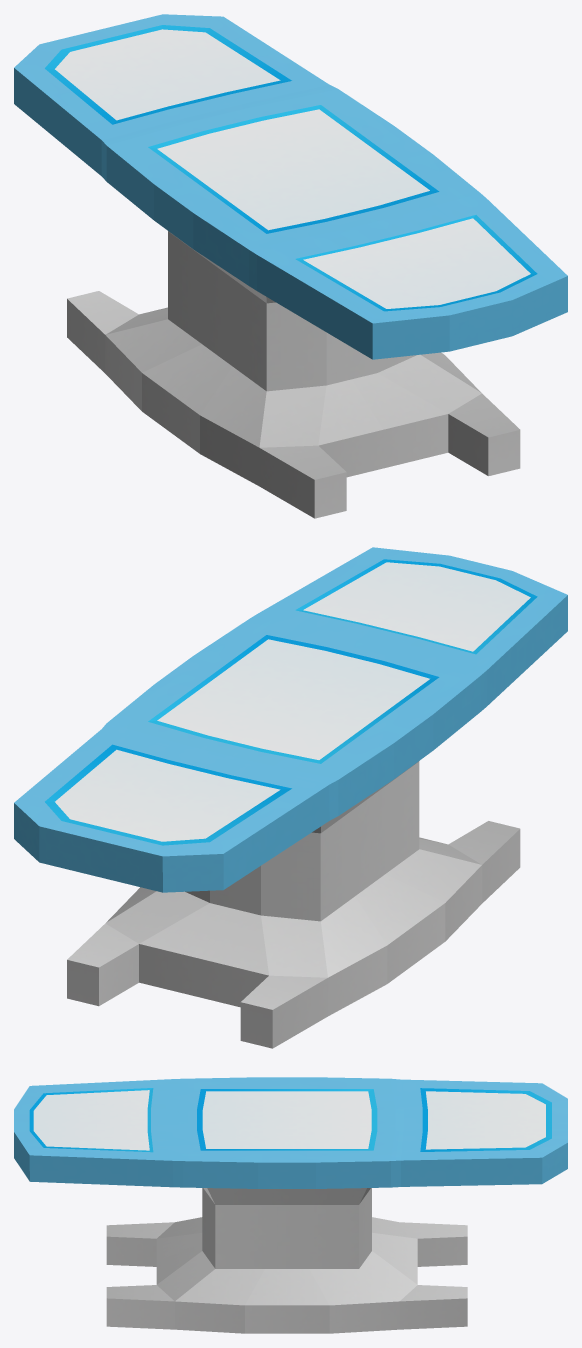
Rendered from bed_2.glb.
3 renders of one model, top to bottom at view 1: azimuth 30°, elevation 25°; view 2: azimuth 150°, elevation 25°; view 3: azimuth 270°, elevation 25°, orthographic. The views are drawn at different scales.
Parts seen in each view (by area): view 1: bed_2; view 2: bed_2; view 3: bed_2.
Part boxes in pixels (<box>): bed_2: <box>14,14,567,518</box>; bed_2: <box>14,547,567,1048</box>; bed_2: <box>14,1077,567,1333</box>.
Bounding box in the file's own units: 0.5363 × 0.4877 × 1.44.
Materials: 1 (1 with a texture image).
